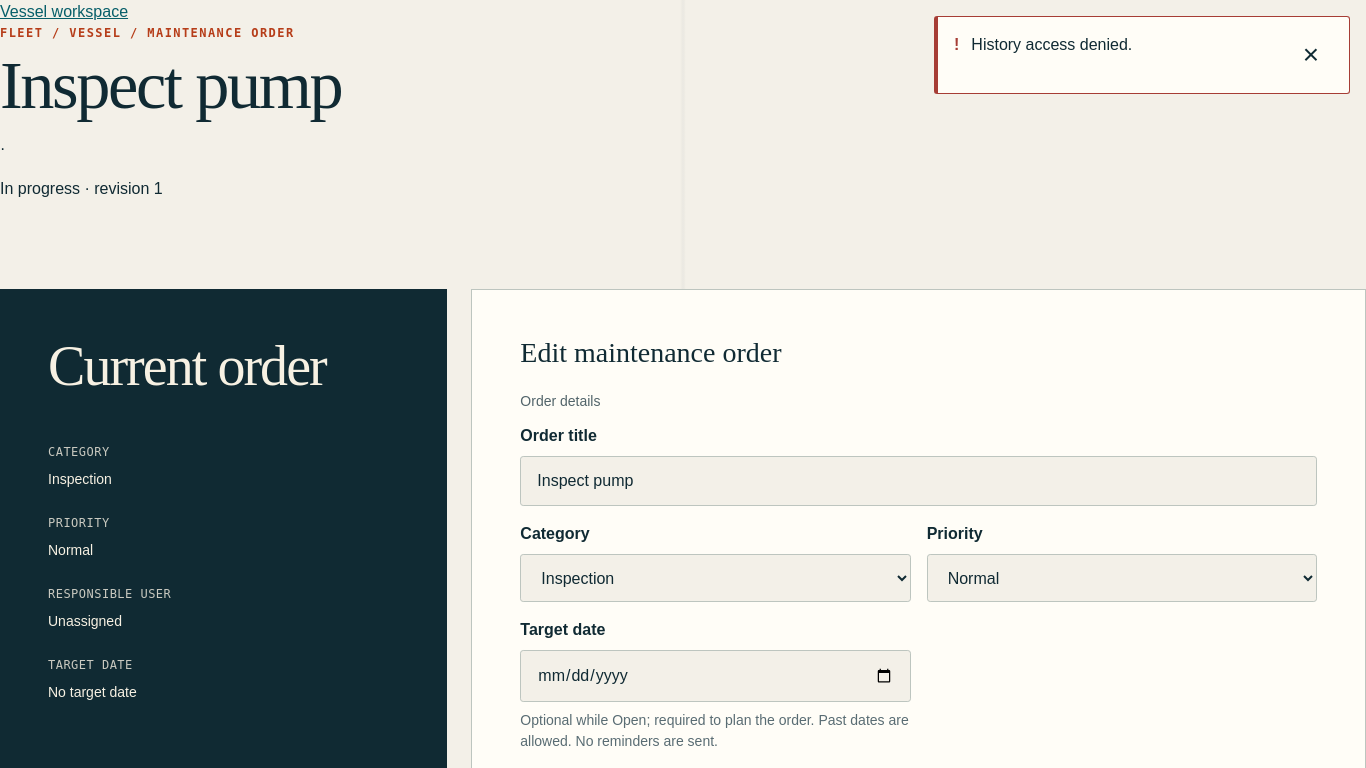
Test: keeps an unsaved field draft visible but immutable after a confirmed final transition
Replace the text in the field labelled "Order title" with "Unsubmitted final draft" at (919, 481), box [520, 456, 1317, 506]
(page scrolled)
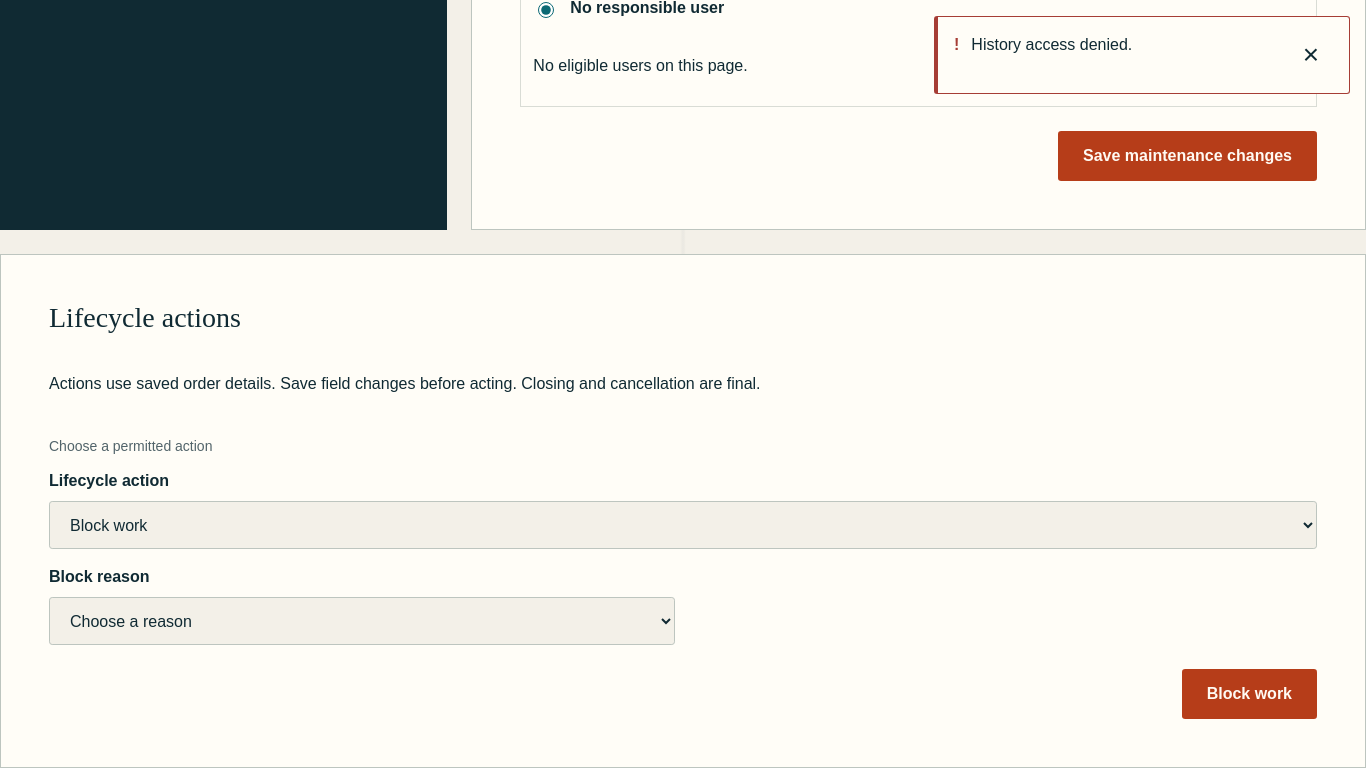
Select "Close order" in the dropdown labelled "Lifecycle action" at (683, 525), box [49, 501, 1317, 549]
(page scrolled)
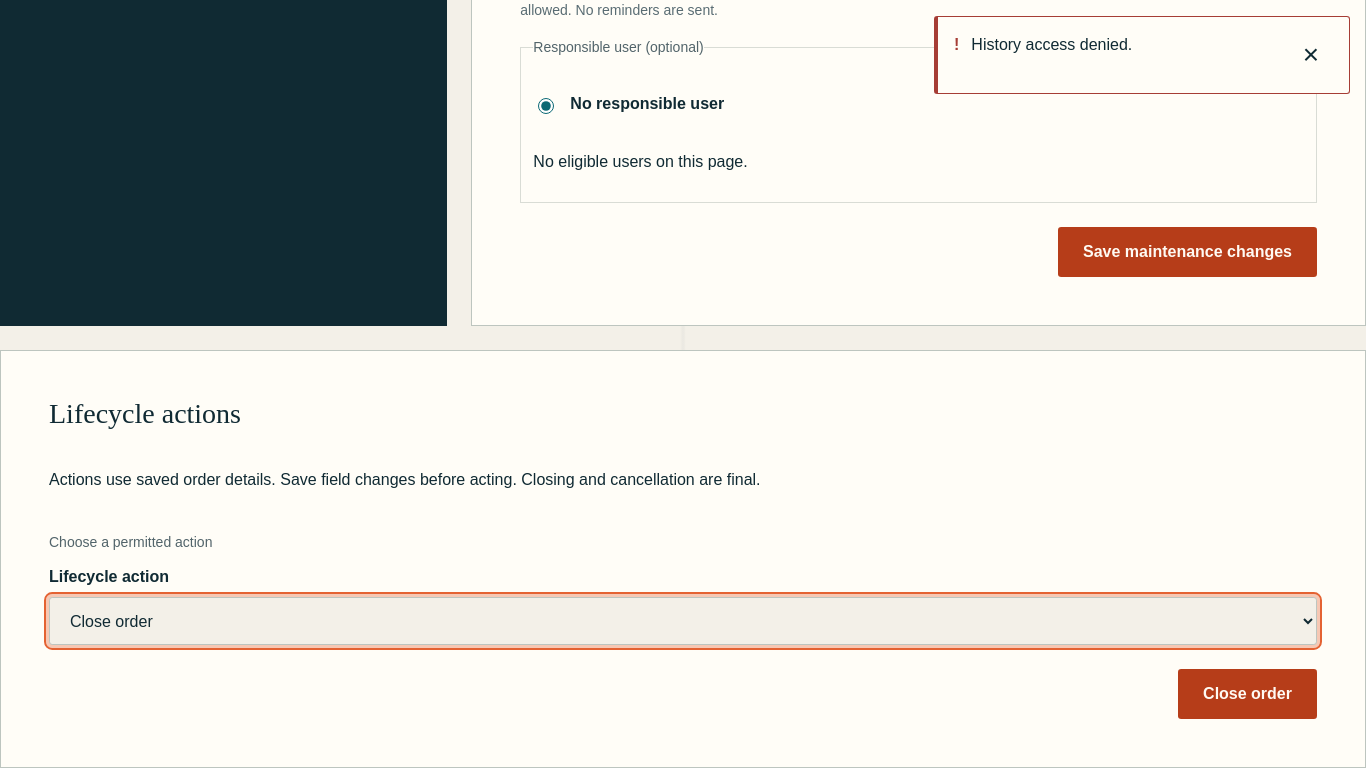
Click the button "Close order" at (1248, 694), box [1178, 669, 1317, 719]
(page scrolled)
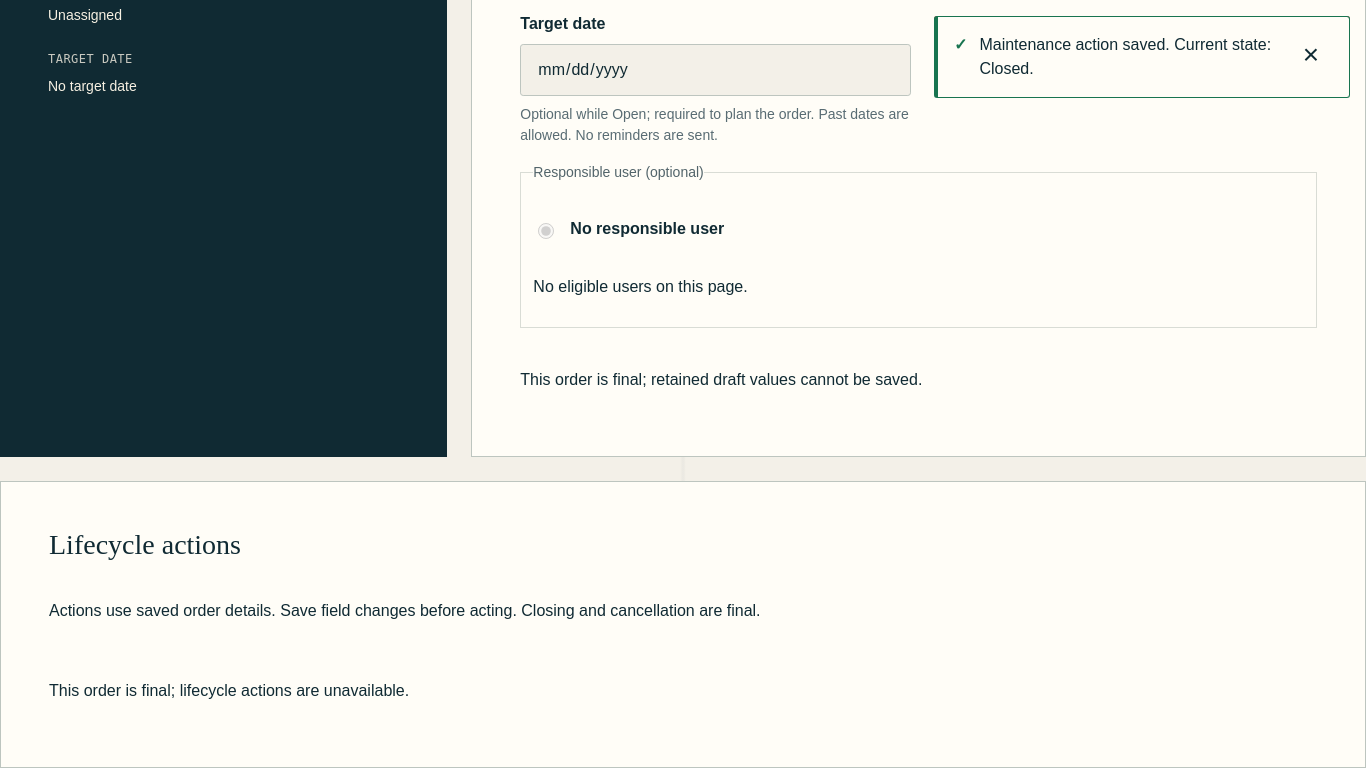
Result: the button "Save maintenance changes" is gone
Result: the text "This order is final; retained draft values cannot be saved." is shown at [520, 371, 922, 388]
